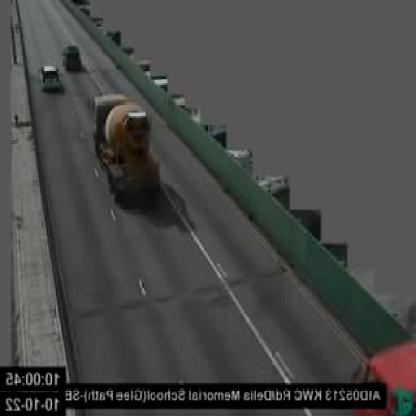Car: (40, 64, 61, 90), (63, 42, 82, 70)
Truck: (92, 95, 160, 198)
